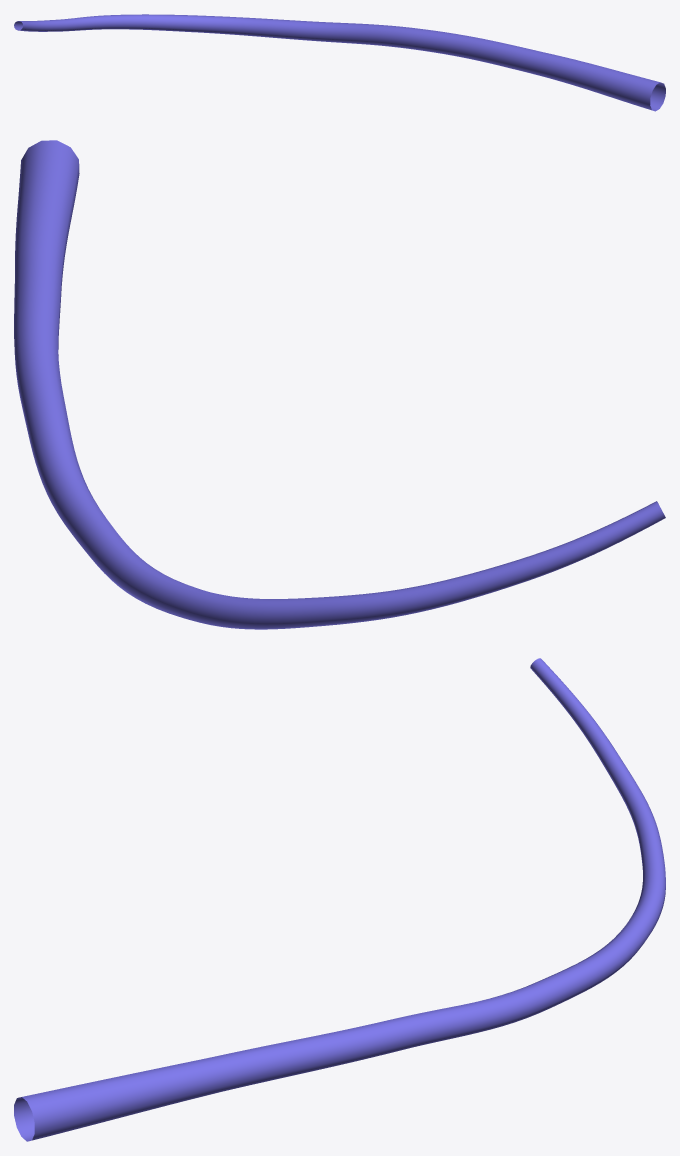
File: Posterior_circumflex_humeral_vein.r_BezierCurve.310.glb
The picture shows the model from 3 angles, top to bottom: view 1: azimuth 30°, elevation 25°; view 2: azimuth 150°, elevation 25°; view 3: azimuth 270°, elevation 25°; orthographic projection. The views are drawn at different scales.
Parts seen in each view (by area): view 1: Posterior_circumflex_humeral_vein.r_BezierCurve.310; view 2: Posterior_circumflex_humeral_vein.r_BezierCurve.310; view 3: Posterior_circumflex_humeral_vein.r_BezierCurve.310.
Part boxes in pixels (x1,y1,x2,y2): Posterior_circumflex_humeral_vein.r_BezierCurve.310: (14, 14, 665, 111); Posterior_circumflex_humeral_vein.r_BezierCurve.310: (14, 140, 665, 629); Posterior_circumflex_humeral_vein.r_BezierCurve.310: (14, 658, 665, 1141).
Size of the model in its own units: 0.0467 by 0.00812 by 0.0351.
